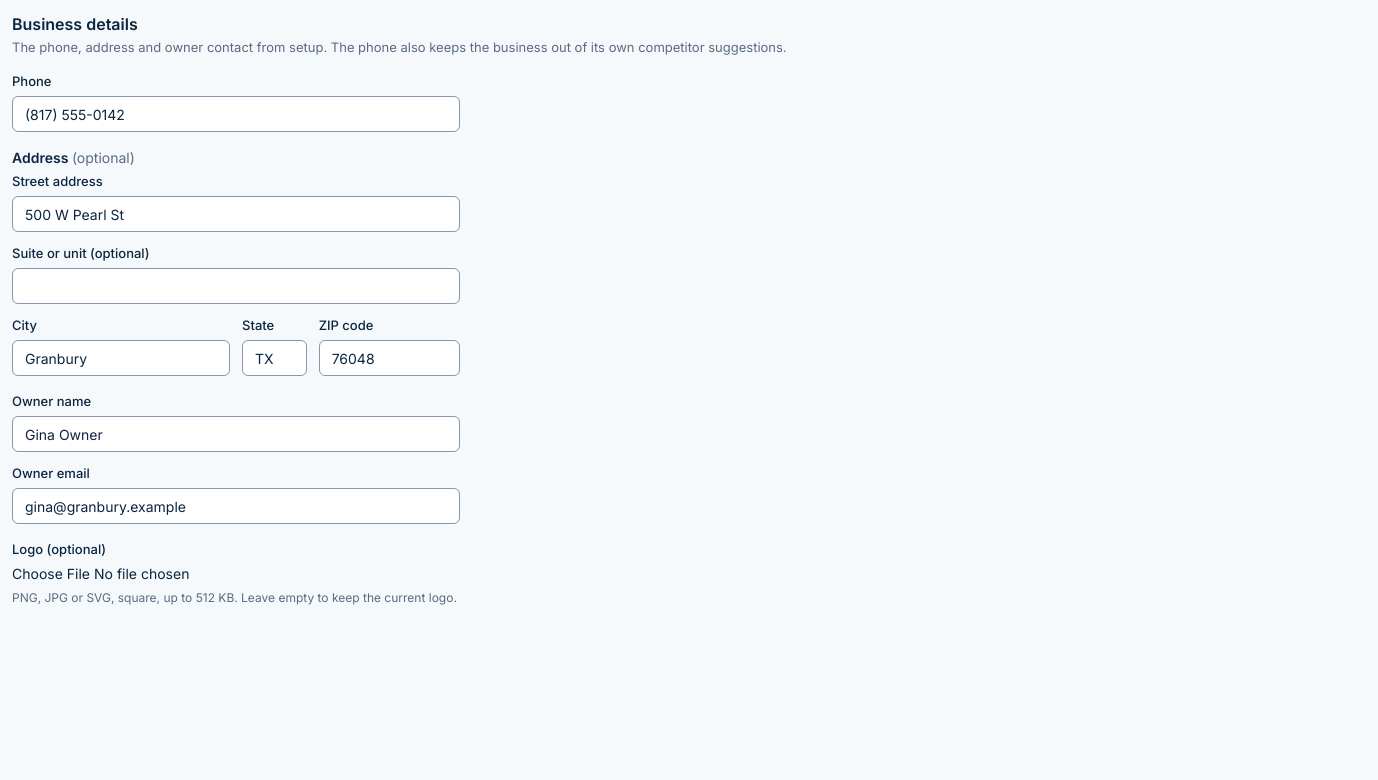
ClientDetailsForm (final fix I3) › shows the stored phone, address and owner contact, and saves them through the action
Check: the heading "Business details" is shown, box [12,14,138,34]
Check: the form "Business details" is shown, box [12,14,787,55]
Replace the text in the field labelled "Phone" with "(817) 555-0199" at (236, 114), box [12,96,460,132]
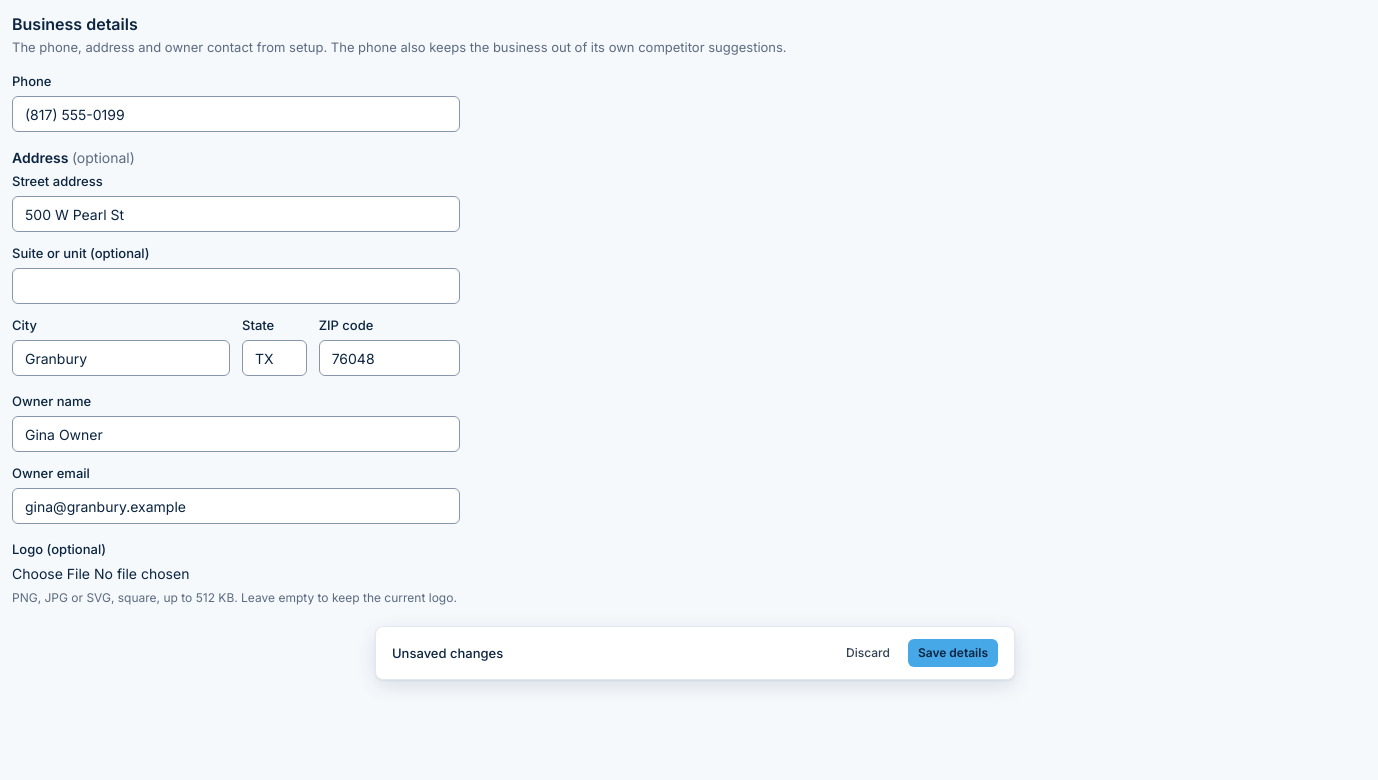
Click the button "Save details" at (953, 653), box [908,639,998,667]
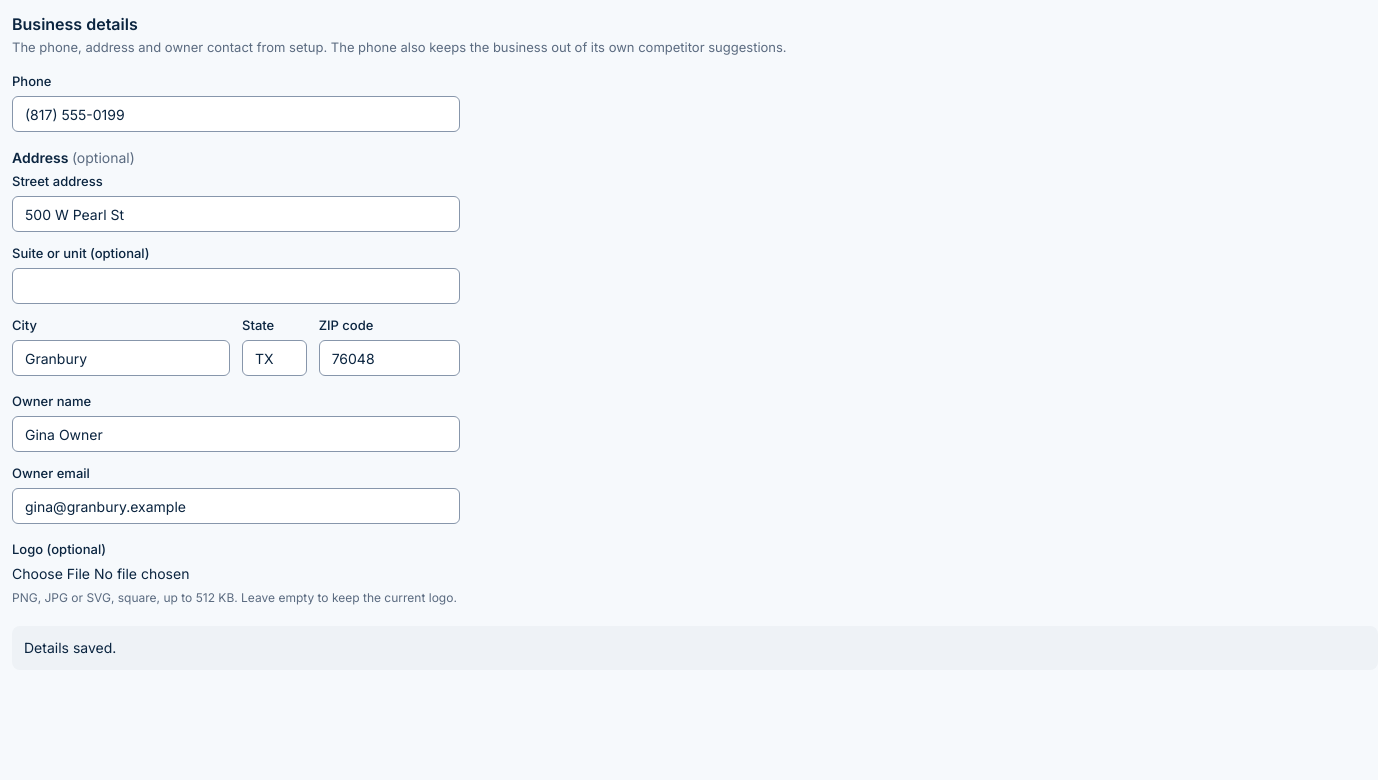
Check: the text "Details saved." is shown, box [12,626,1377,670]
